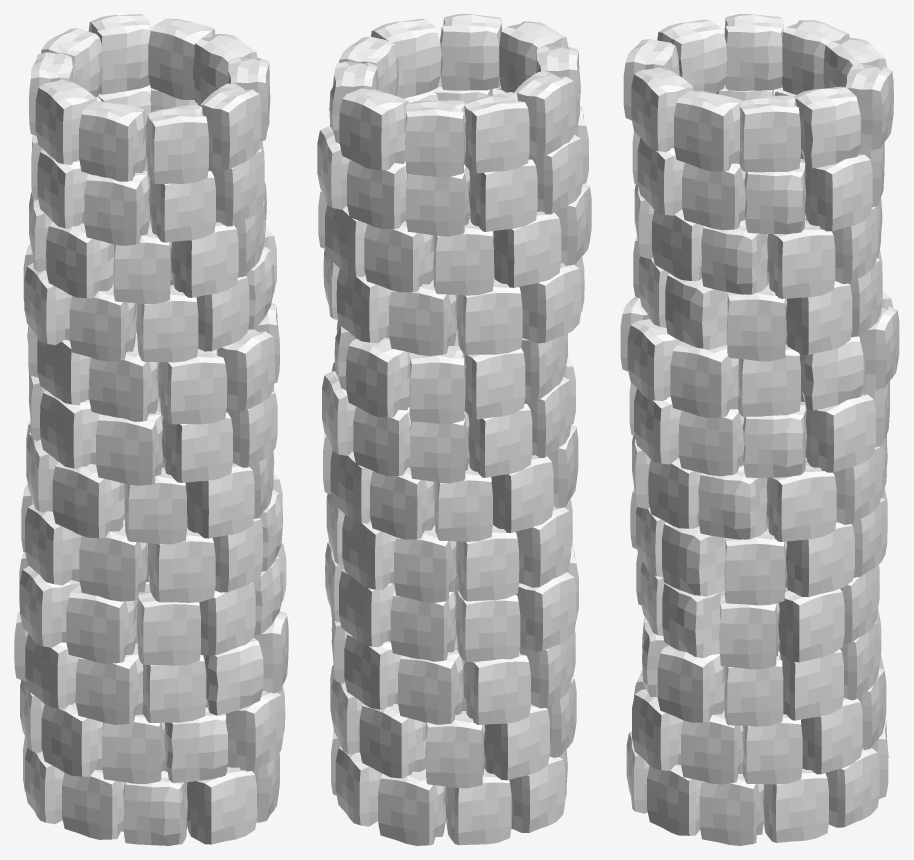
File: Turm.fbx
The picture shows the model from 3 angles, left to right: view 1: azimuth 30°, elevation 25°; view 2: azimuth 150°, elevation 25°; view 3: azimuth 270°, elevation 25°; orthographic projection.
Parts seen in each view (by area): view 1: Steinblock.020; view 2: Steinblock.020; view 3: Steinblock.020.
Boxes of the visible parts, x1=… form: Steinblock.020: x1=14, y1=14, x2=288, y2=845; Steinblock.020: x1=317, y1=14, x2=591, y2=845; Steinblock.020: x1=620, y1=14, x2=899, y2=845.
Bounding box in the file's own units: 695 × 2088 × 718.
